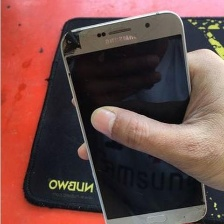phone: (56, 8, 211, 224)
